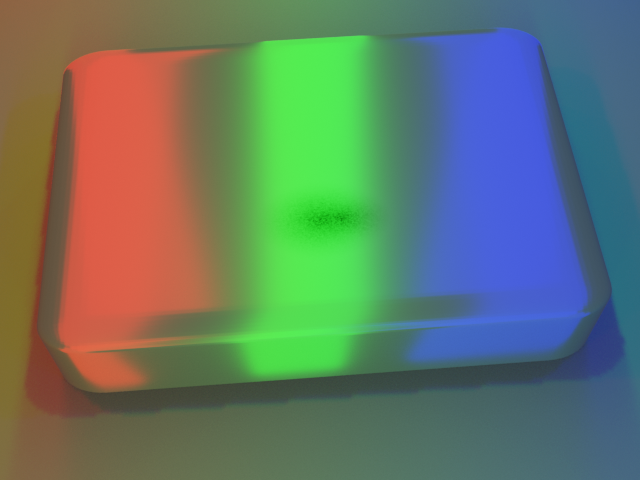stain: (214, 157, 427, 280)
